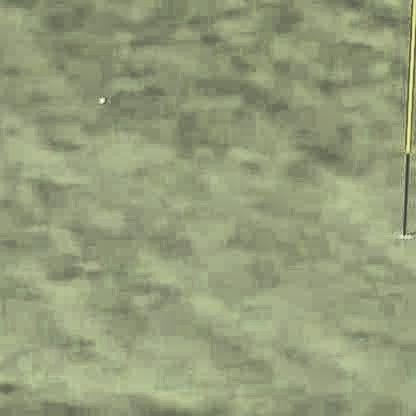golfball: (96, 94, 101, 101)
